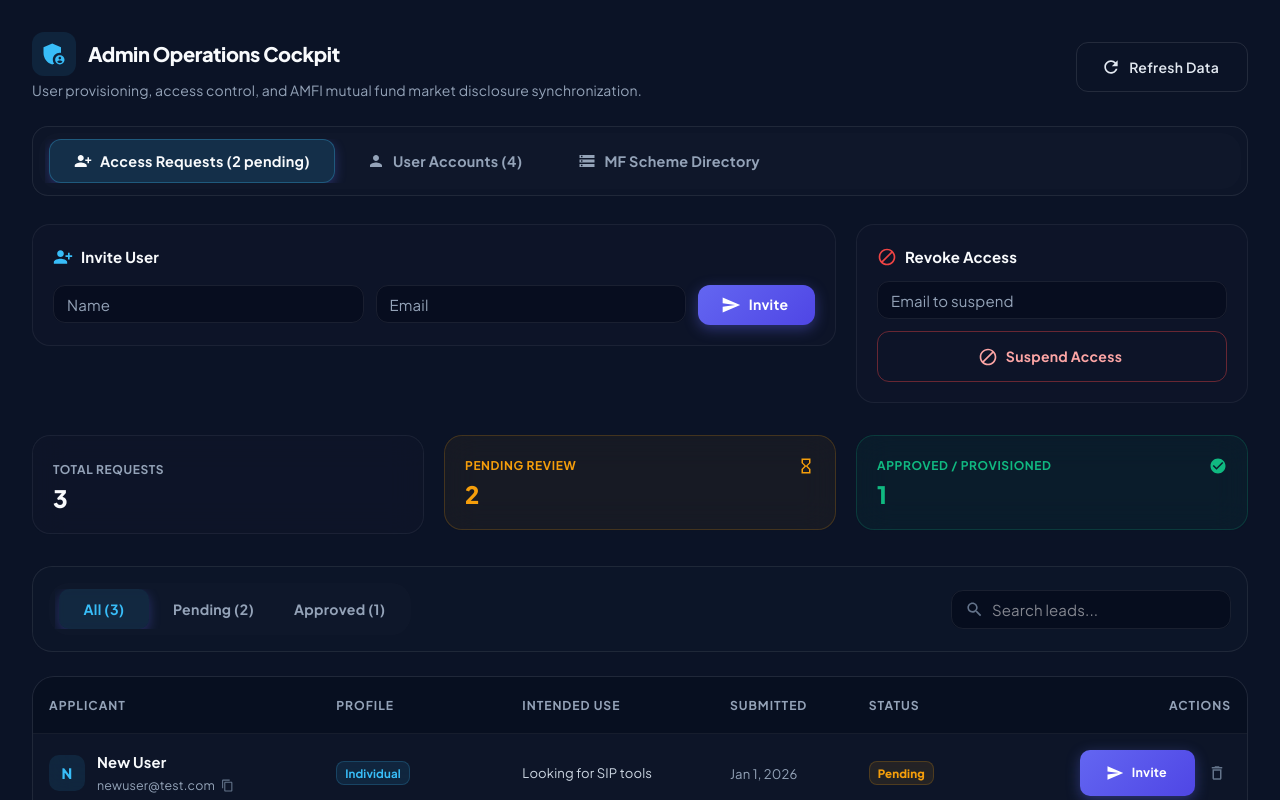
AdminConsole › shows error when reject fails
This screenshot has width=1280, height=800.
Expected: the text "newuser@test.com" is shown, [97,776,215,796]
Click the button with test id "DeleteOutlineIcon". click: (1217, 773)
box: [1203,759,1231,787]
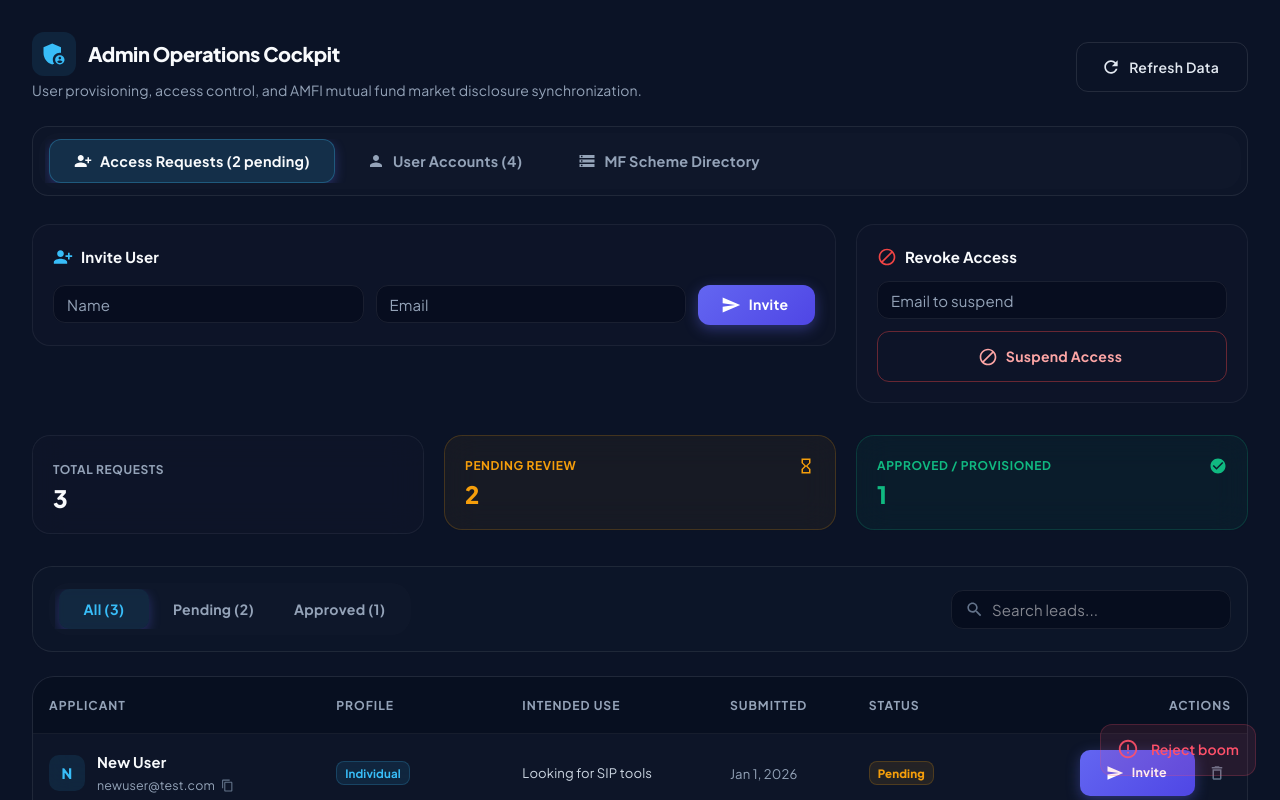
Result: the text "Reject boom" is shown at [1151,740,1239,758]
